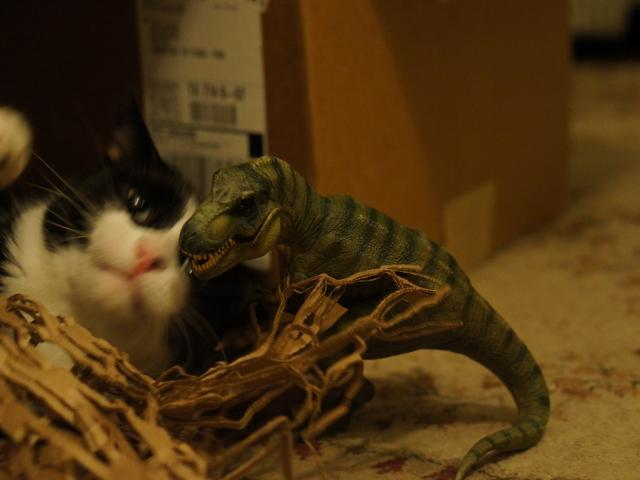Cat: (1, 90, 259, 388)
